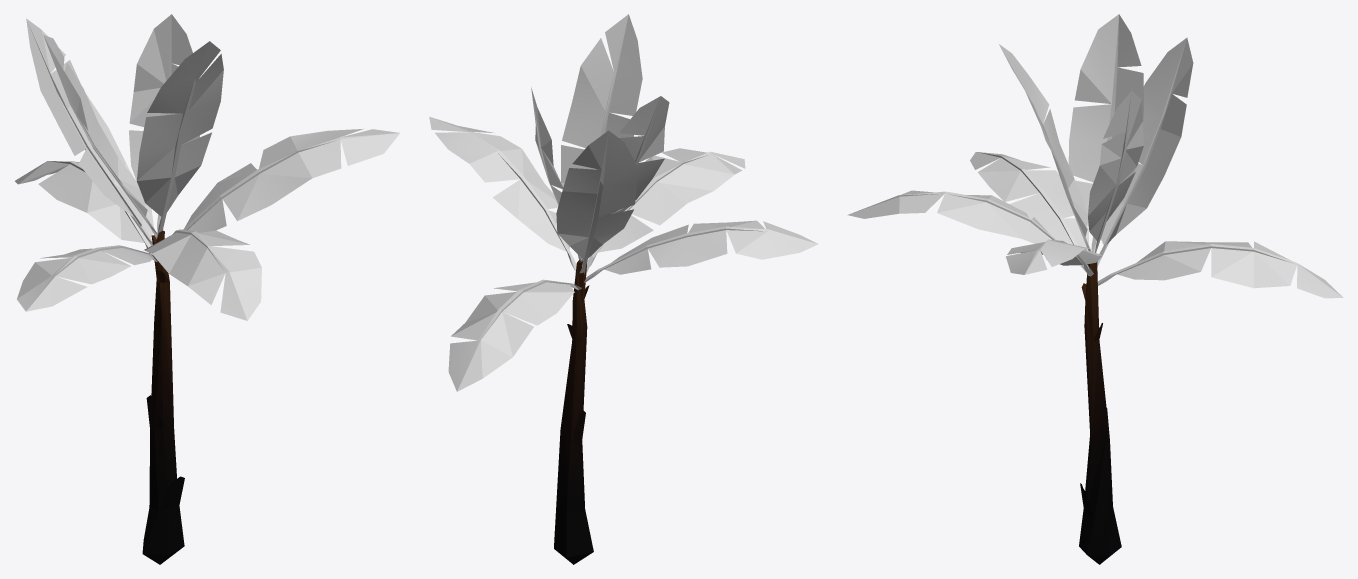
The model's file is SM_BananaTree_1.FBX.
3 renders of one model, left to right at view 1: azimuth 30°, elevation 25°; view 2: azimuth 150°, elevation 25°; view 3: azimuth 270°, elevation 25°, orthographic. The views are drawn at different scales.
Parts seen in each view (by area): view 1: SM_BananaTree_1; view 2: SM_BananaTree_1; view 3: SM_BananaTree_1.
Part boxes in pixels (x1,y1,x2,y2): SM_BananaTree_1: (15, 14, 399, 564); SM_BananaTree_1: (429, 14, 818, 564); SM_BananaTree_1: (847, 14, 1343, 564).
Size of what is drawn, in the model's own units: 266 by 311 by 359.
